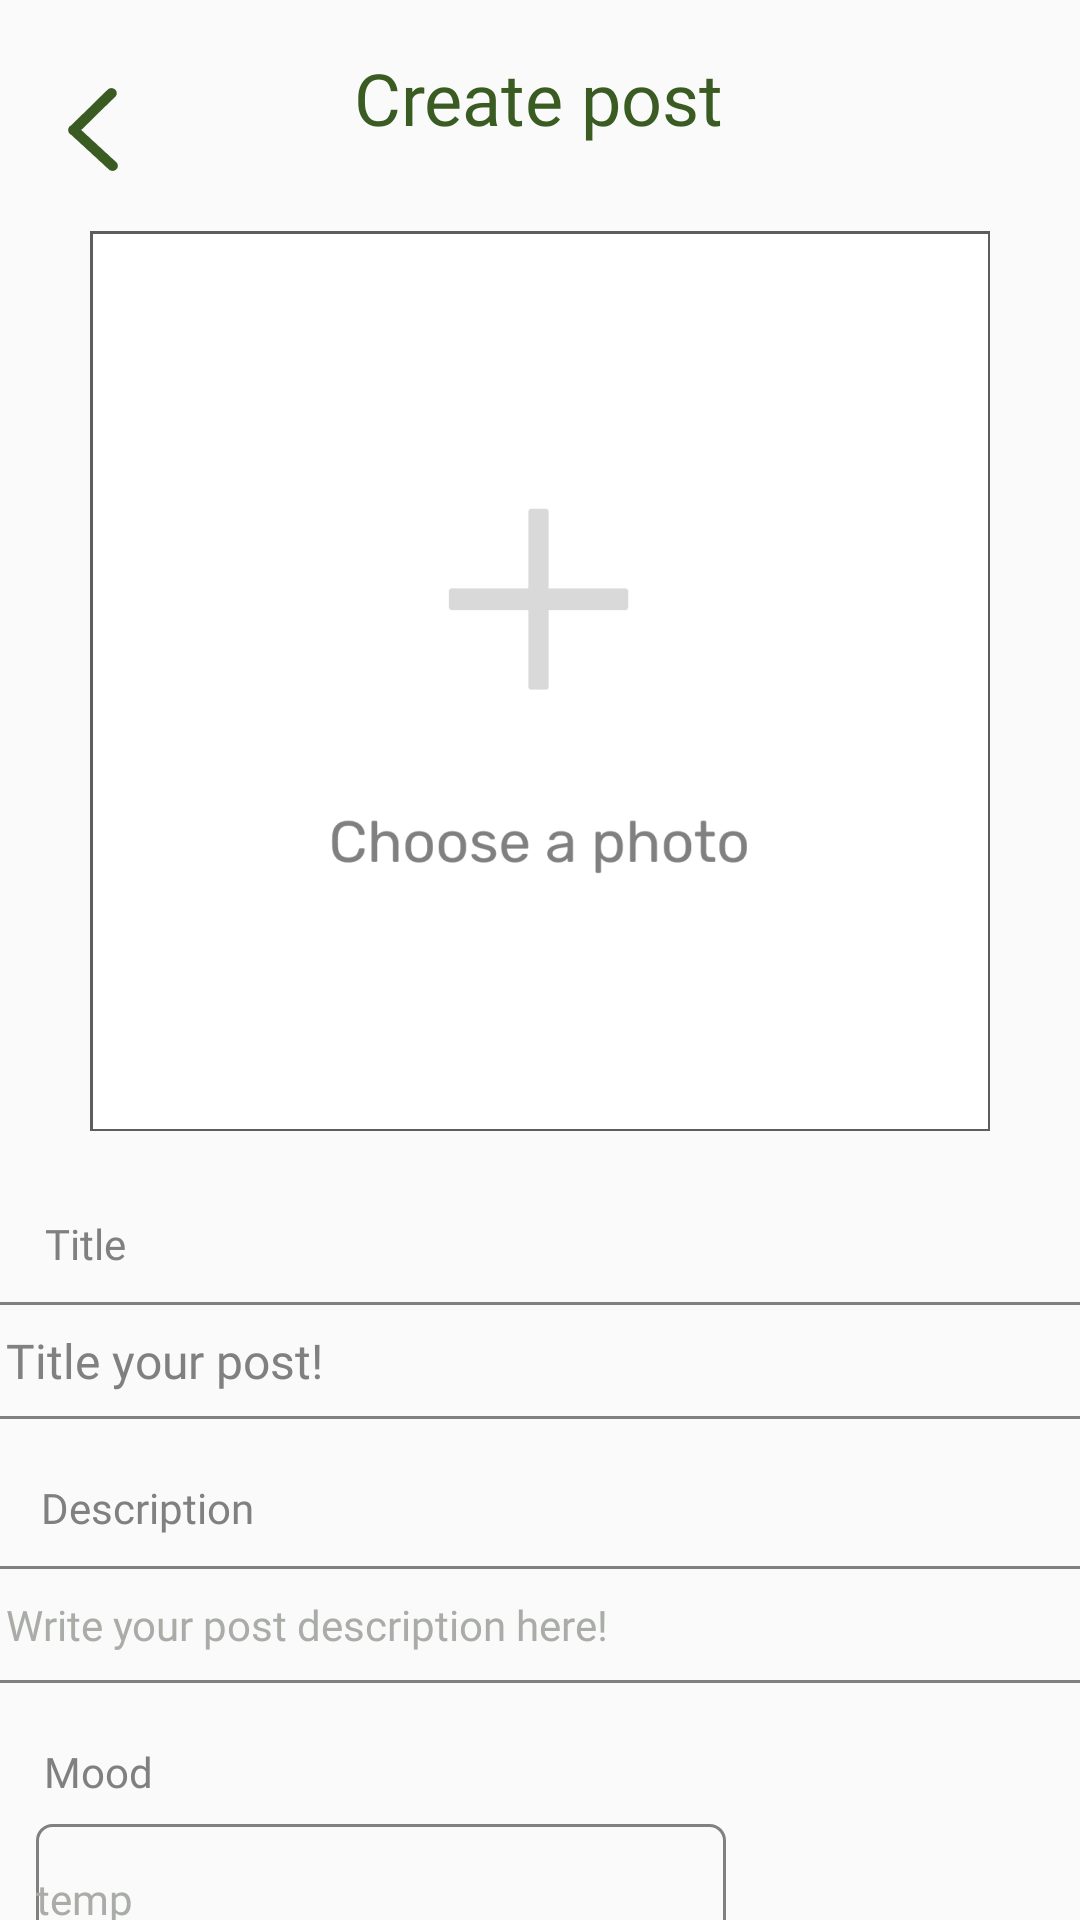

Locate icon controls on the screen. Image size 1080 × 1920, boxes as (x1, y1, x2, y2).
back arrow: (68, 88, 118, 171)
